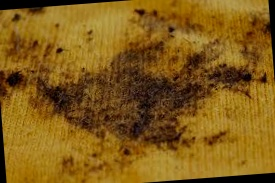earth: (60, 75, 203, 125), (119, 121, 183, 145), (117, 50, 151, 79), (211, 65, 252, 87), (37, 81, 59, 114), (182, 55, 208, 71), (6, 71, 25, 89)
